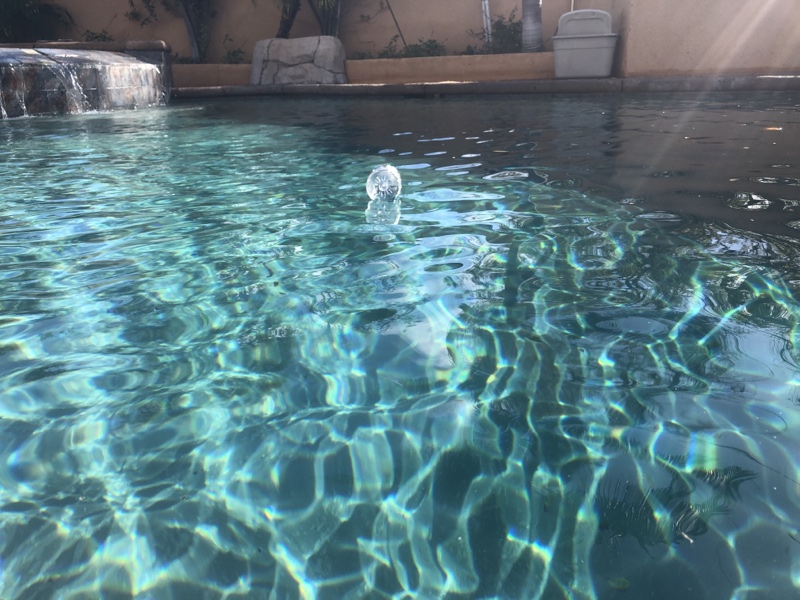Plastic Bottle: (364, 163, 403, 200)
